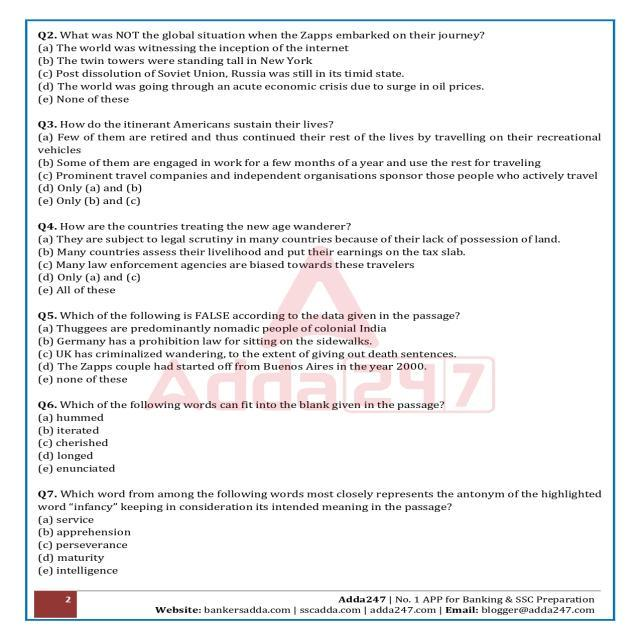Answer_Block: (34, 42, 611, 114), (31, 413, 608, 485), (31, 512, 608, 584), (37, 232, 617, 300), (34, 324, 611, 392), (36, 156, 613, 213)
Question_Answer_Block: (36, 114, 613, 214), (31, 486, 608, 584), (34, 24, 611, 114), (34, 216, 611, 302), (34, 306, 611, 392), (35, 397, 612, 482)
Question_Block: (34, 116, 611, 156), (36, 488, 608, 511), (34, 24, 611, 42), (35, 308, 608, 324), (34, 218, 611, 232), (36, 396, 608, 410)
Question_Paper_Area: (34, 21, 611, 578)
